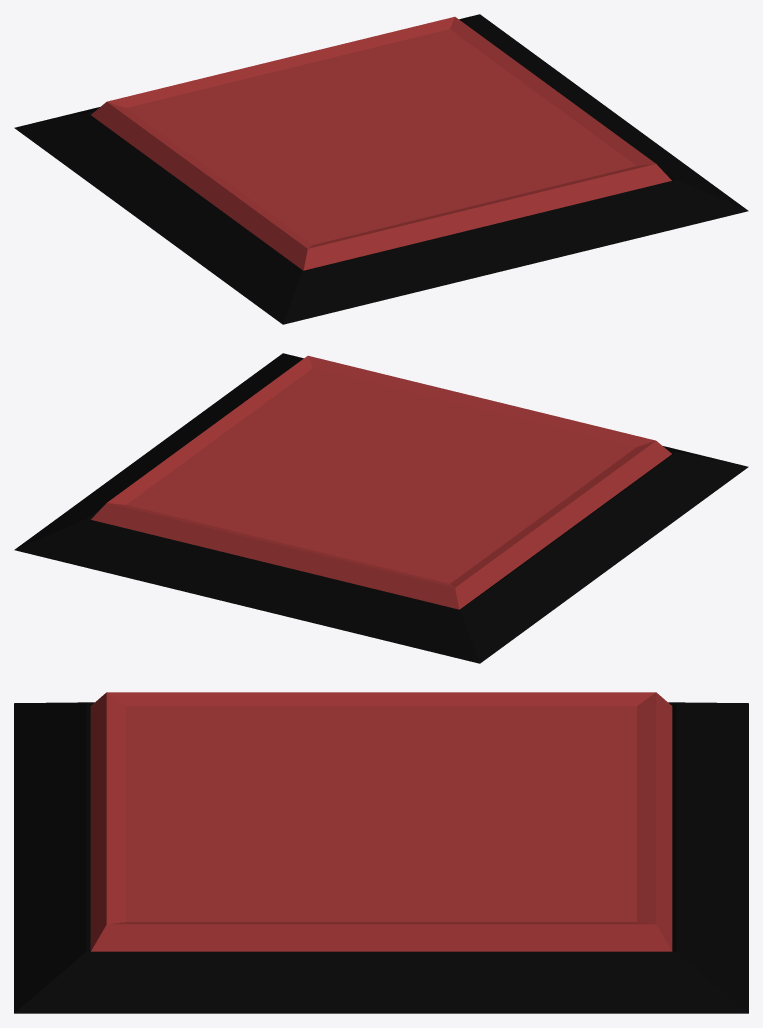
The model's file is boton_rojo.fbx.
3 renders of one model, top to bottom at view 1: azimuth 30°, elevation 25°; view 2: azimuth 150°, elevation 25°; view 3: azimuth 270°, elevation 25°, orthographic. The views are drawn at different scales.
Parts seen in each view (by area): view 1: boton_rojo, base; view 2: boton_rojo, base; view 3: boton_rojo, base.
Boxes of the visible parts, x1,y1,x2,y2 form: boton_rojo: [91, 16, 671, 270]; base: [14, 14, 748, 324]; boton_rojo: [91, 355, 671, 609]; base: [14, 353, 748, 663]; boton_rojo: [90, 692, 672, 951]; base: [14, 702, 748, 1013].
Size of the model in its own units: 5.83 by 0.4388 by 5.83.
